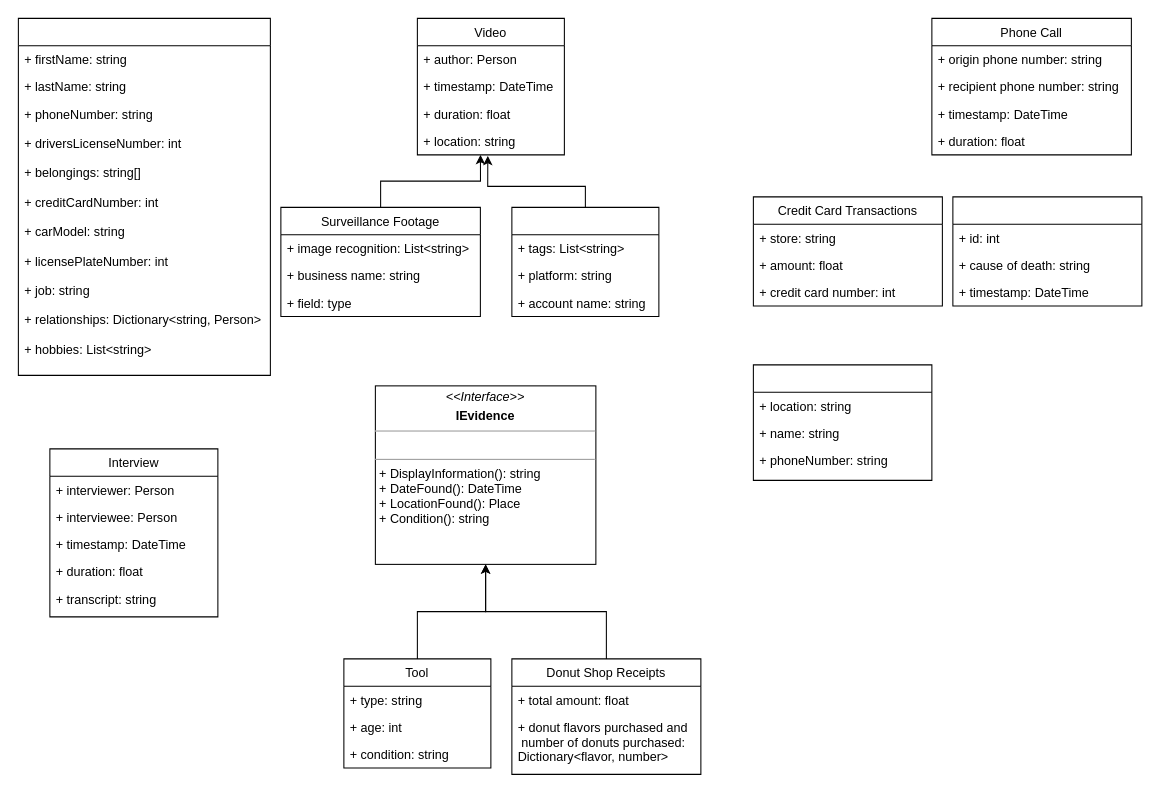
The diagram is 1160 pixels wide and 796 high, and some of its shapes have lost their labels. The box of each missing label's shape, as (x1, y1, x2, y2) in pixels:
Autopsy: (952, 196, 1142, 306)
Person: (17, 17, 270, 375)
Place: (752, 364, 932, 480)
Social Media: (511, 206, 659, 317)
